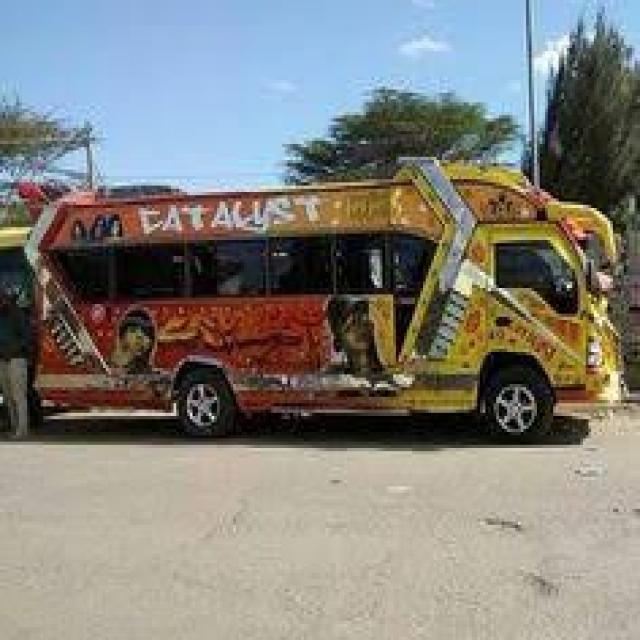bus: (7, 126, 630, 494)
